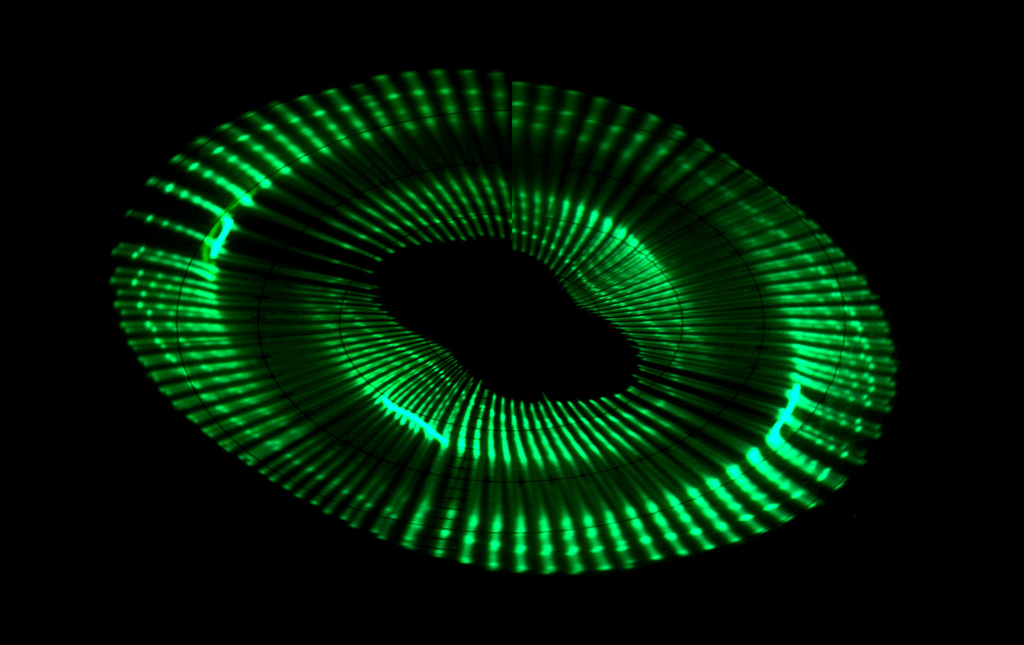person: (370, 233, 644, 407)
